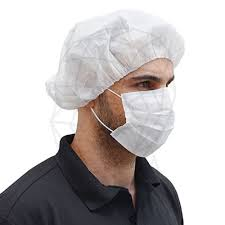with_mask_and_cap: (76, 13, 177, 161)
